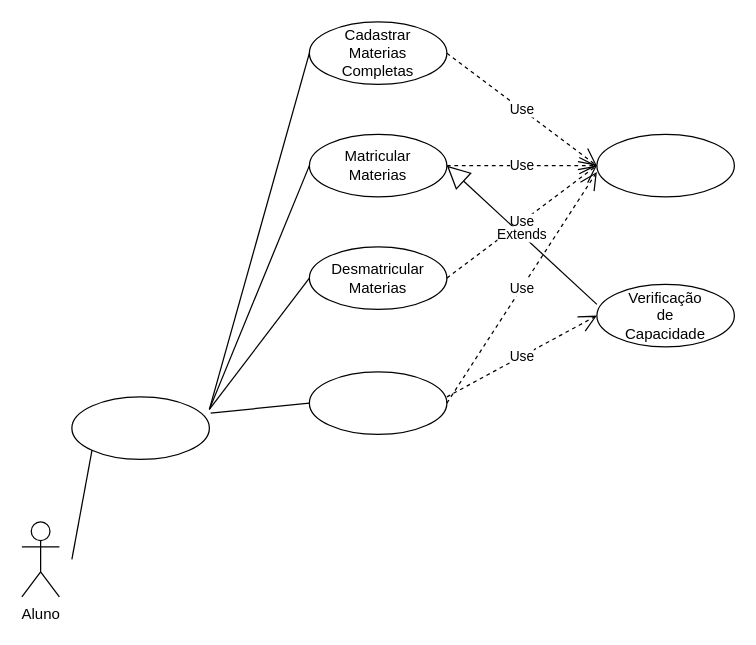
Some shapes in this 756 by 645 pixel diagram are drawn without their labels. The shapes that lost their labels are listed below. From the top down, each one's centre as x and y in pixels, then its label:
At point 665,165: "Selecionar a(s) Materia(s)".
At point 377,402: "Pesquisar Informações".
At point 140,427: "Login".
